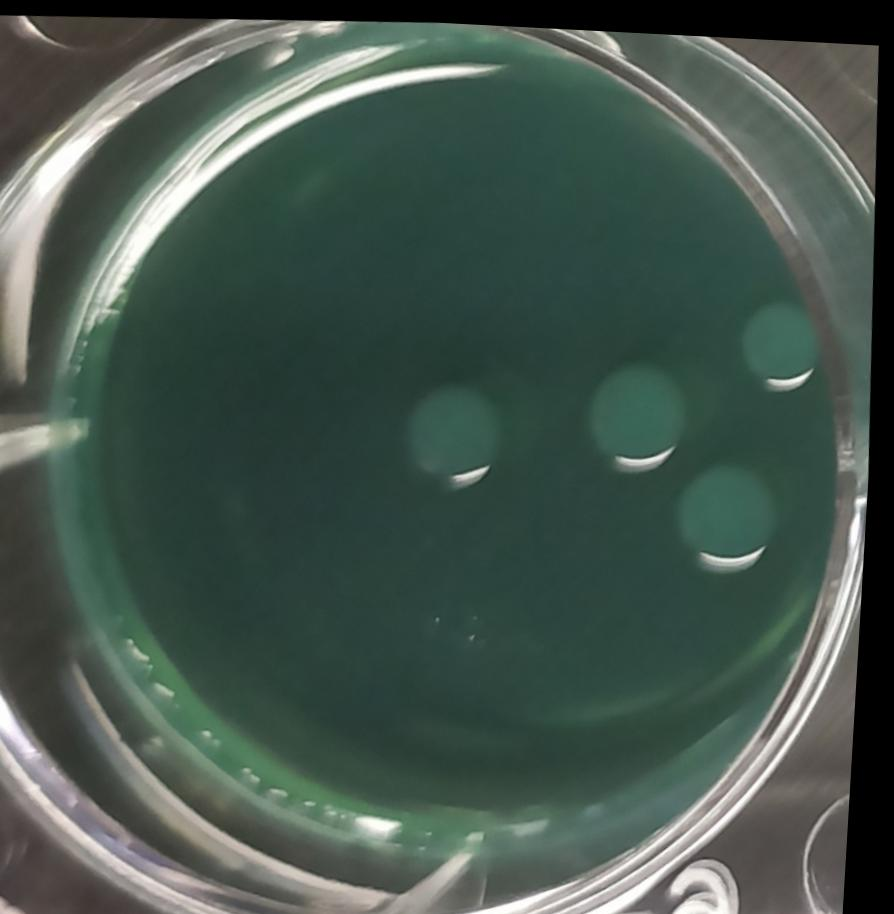vproteolyticus: (572, 335, 703, 477), (668, 447, 795, 579), (397, 365, 520, 496), (730, 274, 843, 387)
